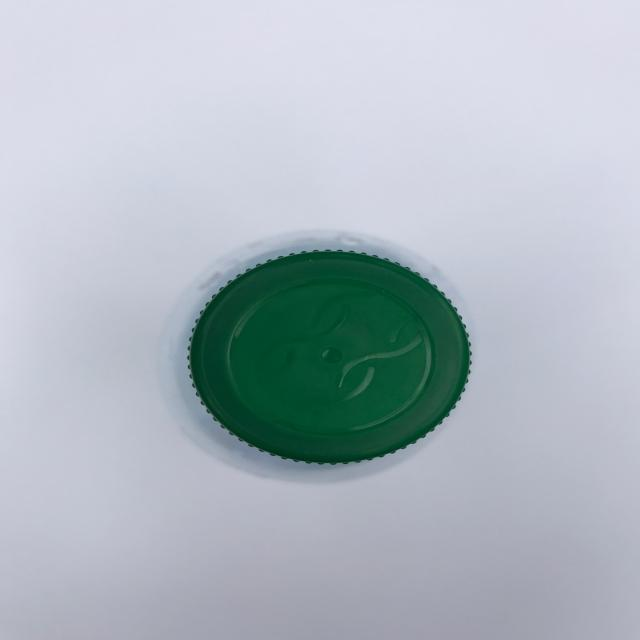plastic: (185, 247, 472, 465)
